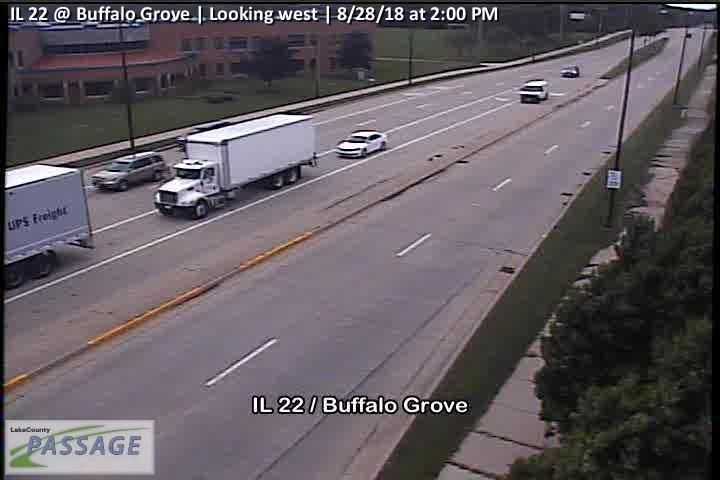SUV: (91, 151, 166, 192)
Sedan: (335, 129, 387, 159), (560, 64, 580, 78)
Truck: (153, 112, 320, 221), (4, 164, 94, 291), (518, 78, 550, 104)
